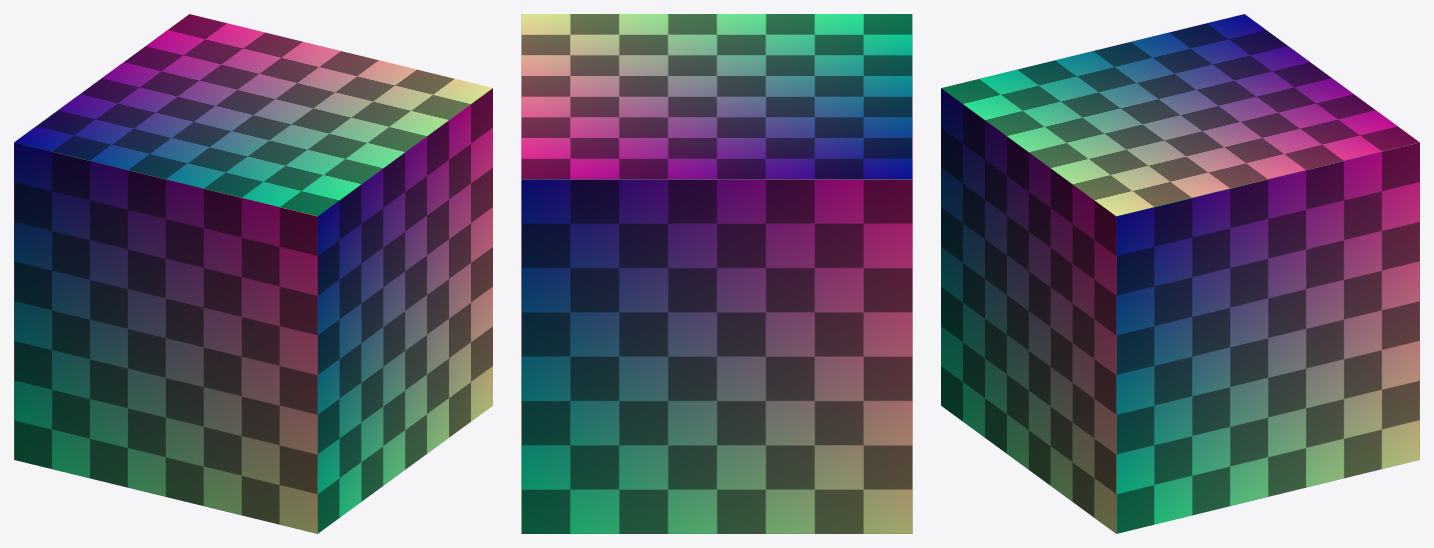
3 renders of one model, left to right at view 1: azimuth 30°, elevation 25°; view 2: azimuth 150°, elevation 25°; view 3: azimuth 270°, elevation 25°, orthographic. The views are drawn at different scales.
Parts seen in each view (by area): view 1: cube; view 2: cube; view 3: cube.
Part boxes in pixels (x1,y1,x2,y2): cube: (14, 14, 492, 533); cube: (521, 14, 912, 533); cube: (941, 14, 1419, 533).
Size of the model in its own units: 1.37 by 1 by 1.37.
1 material, 1 textured.
